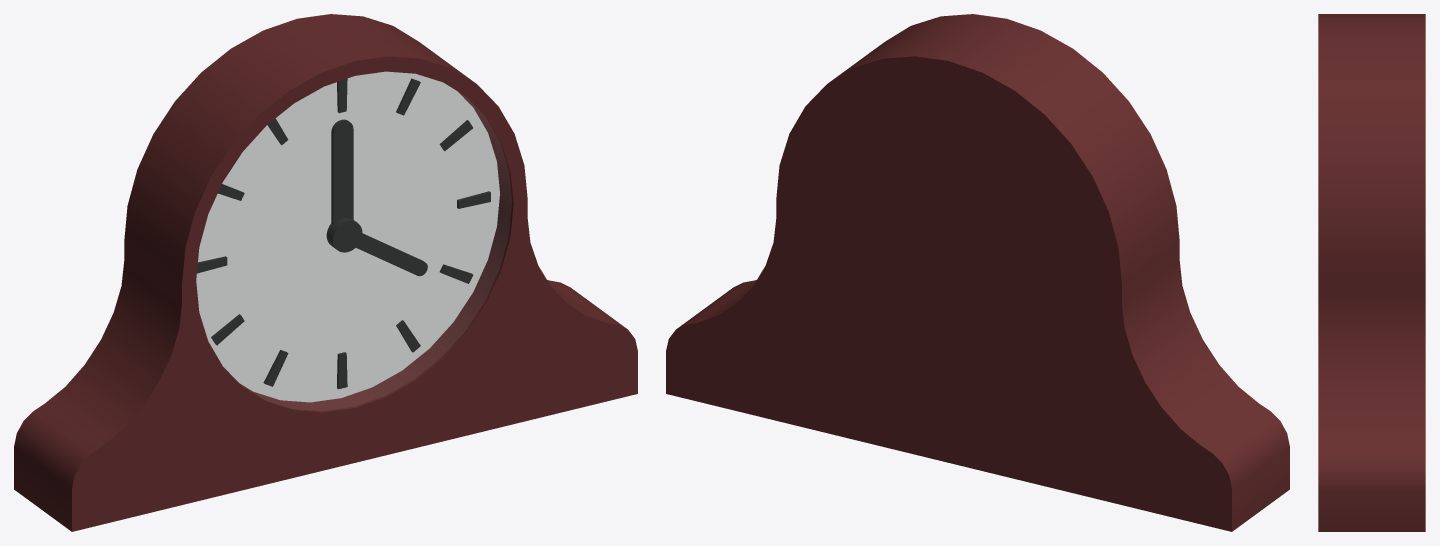
Rendered from mantelpiece_clock.glb.
3 views of the same model, side by side, from view 1: azimuth 30°, elevation 25°; view 2: azimuth 150°, elevation 25°; view 3: azimuth 270°, elevation 25° (orthographic). The views are drawn at different scales.
Visible parts, largest first — view 1: Circle.2426, Circle.2427, Plane.248, Plane.249; view 2: Circle.2426; view 3: Circle.2426.
Part boxes in pixels (x1=…): Circle.2426: x1=14, y1=14, x2=637, y2=531; Circle.2427: x1=197, y1=78, x2=490, y2=389; Plane.248: x1=331, y1=119, x2=353, y2=224; Plane.249: x1=356, y1=233, x2=427, y2=276; Circle.2426: x1=666, y1=14, x2=1289, y2=531; Circle.2426: x1=1318, y1=14, x2=1425, y2=531.
Bounding box in the file's own units: 2.41 × 1.64 × 0.4269.
Materials: 2 (1 with a texture image).
